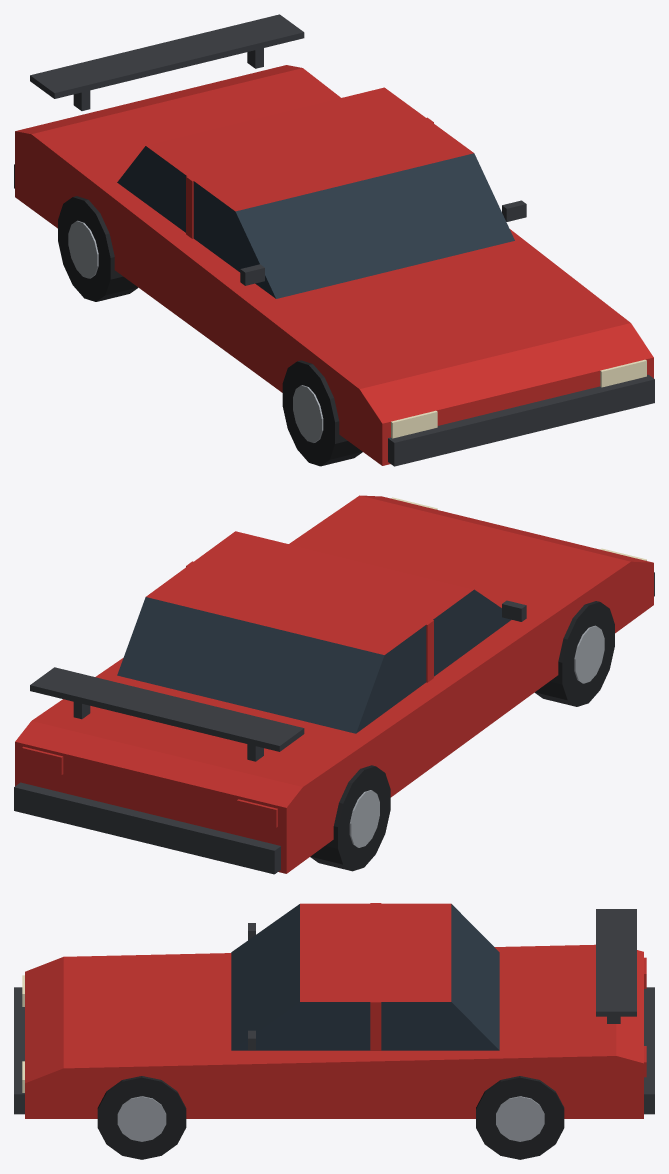
File: race_car.glb
3 views of the same model, one above another, from view 1: azimuth 30°, elevation 25°; view 2: azimuth 150°, elevation 25°; view 3: azimuth 270°, elevation 25° (orthographic). The views are drawn at different scales.
Visible parts, largest first — view 1: Body, Wheel_FR, Wheel_RR; view 2: Body, Wheel_RR, Wheel_FR; view 3: Body, Wheel_FL, Wheel_RL.
Boxes of the visible parts, x1,y1,x2,y2 form: Body: (14,14,654,466); Wheel_FR: (282,360,362,466); Wheel_RR: (58,196,138,301); Body: (14,495,654,874); Wheel_RR: (310,765,390,871); Wheel_FR: (534,601,614,706); Body: (14,903,654,1118); Wheel_FL: (97,1076,186,1159); Wheel_RL: (476,1076,564,1159).
Bounding box in the file's own units: 2 × 1.2 × 4.66.
